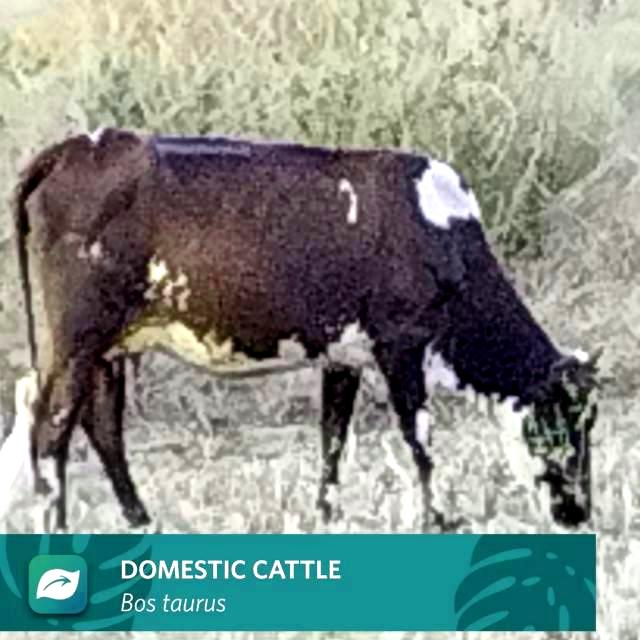COW: (15, 128, 592, 528)
